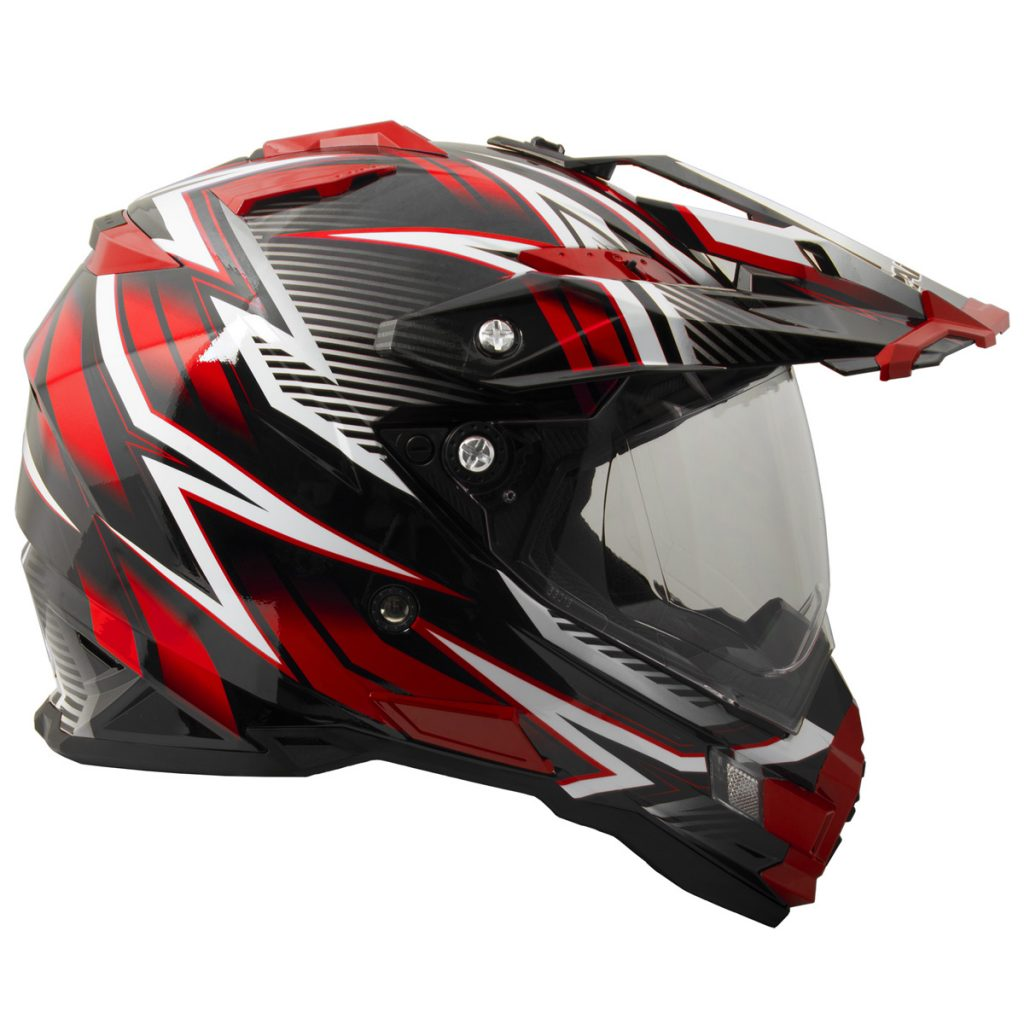with_helmet: (12, 112, 1022, 937)
